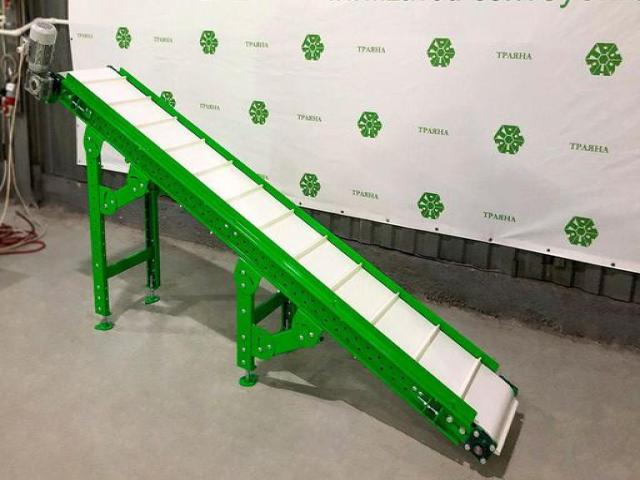conveyor: (48, 63, 522, 466)
